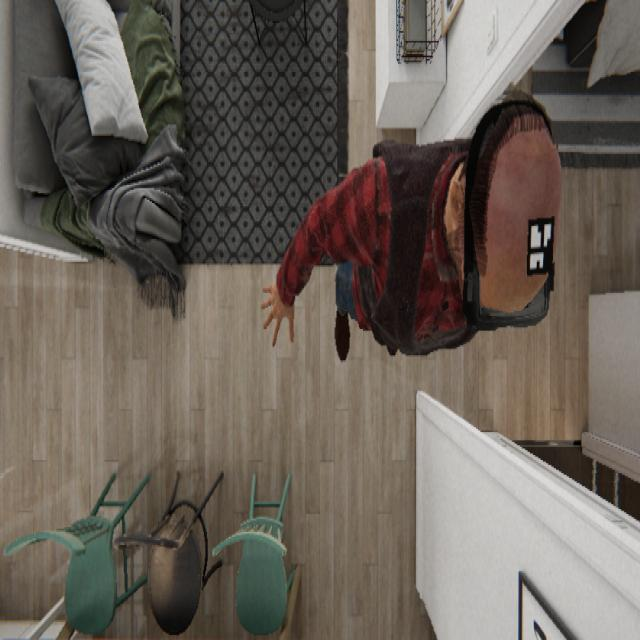AruCO: (524, 213, 554, 278)
Human: (260, 88, 562, 362)
